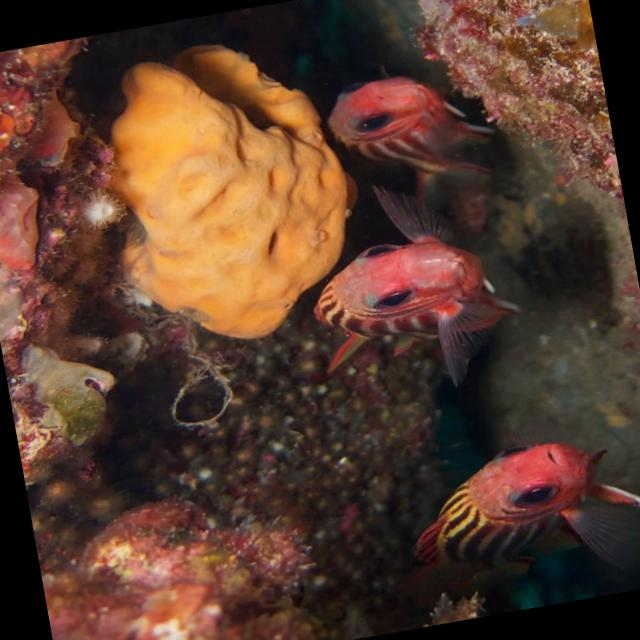Asker Baligi: (357, 408, 640, 619), (282, 212, 562, 420), (304, 52, 536, 215)
